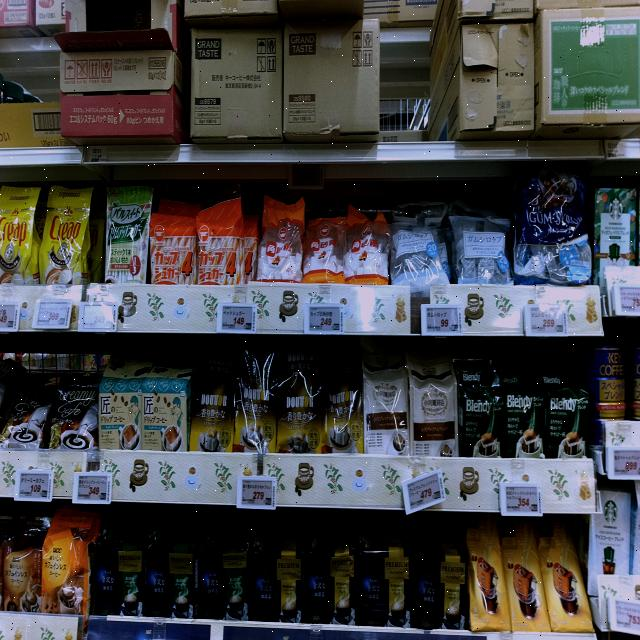objects: (402, 469, 448, 514), (419, 302, 464, 336), (499, 483, 544, 517), (524, 304, 568, 338), (236, 476, 278, 508), (14, 469, 54, 502), (74, 470, 112, 504), (304, 302, 344, 334), (218, 302, 256, 334), (607, 445, 640, 480), (78, 302, 116, 332), (34, 300, 72, 328), (614, 284, 640, 316), (0, 298, 20, 332)
